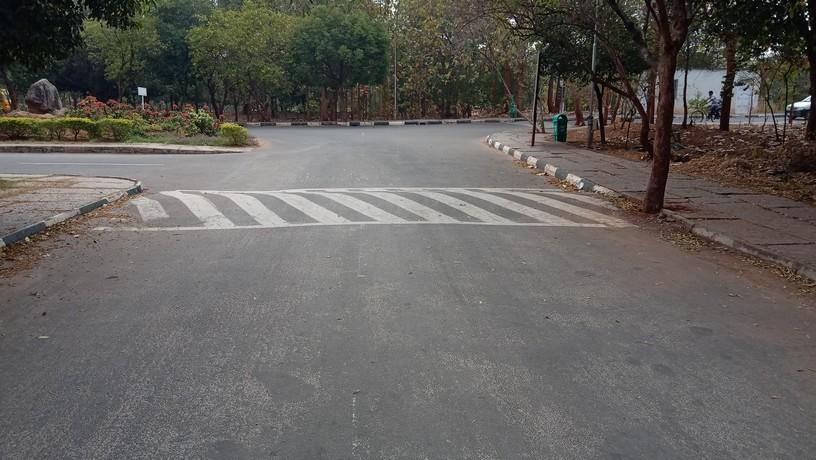speed-bump: (115, 187, 633, 232)
